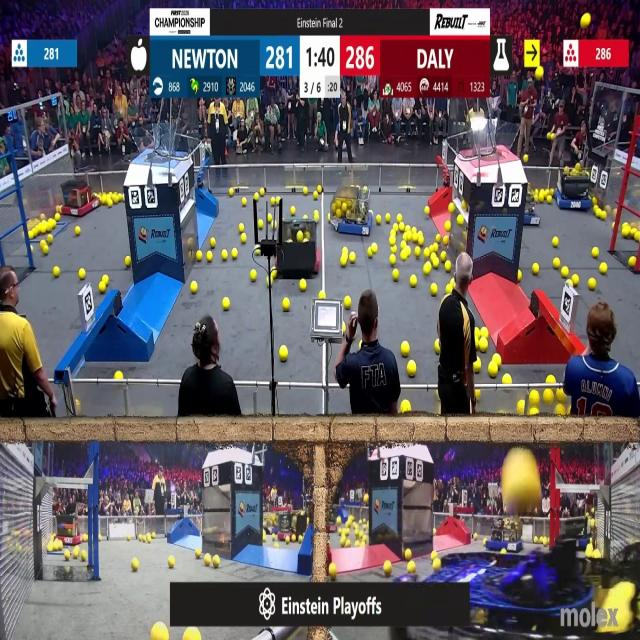ball_airborne: (500, 450, 540, 508), (582, 12, 591, 28), (535, 67, 543, 80), (524, 153, 529, 163)
ball_ground: (152, 624, 167, 640), (408, 360, 418, 376), (400, 342, 409, 357), (400, 399, 410, 412), (280, 346, 288, 362), (489, 362, 498, 376), (384, 561, 392, 576), (530, 391, 539, 404), (328, 564, 336, 578), (546, 387, 554, 401), (344, 295, 352, 308), (132, 558, 140, 571), (518, 403, 525, 417), (432, 559, 440, 571), (480, 340, 488, 352), (408, 561, 416, 573), (283, 299, 290, 312), (212, 556, 220, 567), (561, 268, 569, 279), (493, 354, 501, 365), (600, 264, 607, 276), (392, 270, 399, 282), (411, 275, 418, 287), (189, 282, 196, 294), (473, 359, 480, 371), (434, 341, 440, 355), (169, 556, 176, 568), (424, 264, 431, 276), (100, 282, 107, 294), (571, 275, 578, 287), (406, 550, 413, 562), (623, 227, 630, 239), (502, 374, 510, 384), (545, 376, 553, 386), (554, 257, 561, 268), (473, 389, 480, 400), (629, 256, 636, 267), (205, 555, 212, 566), (431, 260, 438, 271), (299, 280, 305, 292), (222, 297, 228, 309), (78, 270, 85, 280), (430, 284, 437, 294), (349, 252, 356, 262), (445, 262, 452, 272), (123, 256, 130, 266), (341, 256, 348, 266), (594, 207, 601, 217), (406, 247, 413, 257), (250, 271, 256, 282), (590, 279, 596, 290), (532, 265, 538, 276), (195, 250, 201, 261), (370, 241, 376, 252), (418, 235, 424, 246), (634, 232, 640, 243), (530, 409, 538, 417), (115, 369, 122, 378), (446, 284, 453, 293), (445, 221, 452, 230), (423, 249, 430, 258), (593, 248, 599, 258), (42, 245, 48, 255), (241, 234, 247, 244), (195, 549, 201, 559), (207, 251, 213, 261), (517, 272, 523, 282), (221, 250, 227, 260), (55, 268, 61, 278), (239, 222, 245, 232), (416, 247, 422, 257), (65, 551, 71, 561), (81, 552, 87, 562), (74, 550, 80, 560), (400, 250, 406, 260), (482, 327, 488, 337), (442, 251, 448, 261), (258, 188, 264, 198), (553, 238, 559, 247), (210, 239, 216, 248), (319, 290, 325, 299), (548, 196, 554, 205), (290, 207, 296, 216), (390, 255, 396, 264), (257, 219, 263, 228), (444, 237, 450, 246), (390, 237, 396, 246), (402, 233, 408, 242), (396, 214, 402, 223), (29, 231, 35, 240), (117, 192, 123, 201), (538, 191, 544, 200), (341, 537, 347, 546), (75, 225, 80, 235), (233, 249, 238, 259), (458, 215, 463, 225), (254, 248, 260, 256), (103, 276, 109, 284), (430, 552, 436, 560), (107, 200, 113, 208), (432, 244, 438, 252), (392, 222, 398, 230), (146, 535, 152, 543), (252, 192, 258, 200), (57, 540, 63, 548), (386, 214, 391, 223), (435, 235, 440, 244), (272, 271, 277, 280), (398, 222, 403, 231), (474, 327, 479, 336), (391, 245, 396, 254), (413, 233, 418, 242), (276, 198, 281, 207), (601, 211, 606, 220), (47, 542, 52, 551), (56, 214, 62, 221), (227, 188, 233, 195), (412, 225, 418, 232), (390, 231, 396, 238), (367, 248, 371, 258), (377, 215, 382, 223), (242, 199, 247, 207), (269, 214, 274, 222), (400, 241, 405, 249), (315, 212, 320, 220), (40, 240, 45, 248), (355, 539, 360, 547), (364, 494, 368, 504), (272, 198, 277, 206), (450, 204, 454, 213), (450, 279, 455, 286), (304, 187, 309, 194), (139, 534, 144, 541), (328, 214, 333, 221), (343, 248, 348, 255), (57, 207, 62, 214), (425, 207, 429, 215), (47, 236, 51, 244), (314, 191, 318, 199), (432, 528, 436, 536), (343, 326, 347, 334), (347, 539, 351, 547), (338, 517, 342, 525), (83, 534, 87, 541), (292, 535, 296, 542), (99, 534, 103, 541), (298, 535, 302, 542), (264, 538, 268, 545), (358, 343, 362, 350), (362, 540, 366, 547), (128, 535, 133, 540), (473, 532, 476, 540), (305, 214, 309, 220), (275, 542, 279, 548), (273, 534, 277, 540), (484, 539, 487, 545), (502, 550, 504, 556)
goal: (465, 121, 521, 159), (131, 129, 189, 160)
robot_blue: (467, 553, 537, 634), (331, 186, 373, 238), (556, 163, 595, 212), (489, 517, 524, 554), (523, 203, 540, 226)
robot_red: (277, 217, 321, 277), (61, 173, 99, 216), (268, 511, 298, 541), (54, 513, 82, 545)
